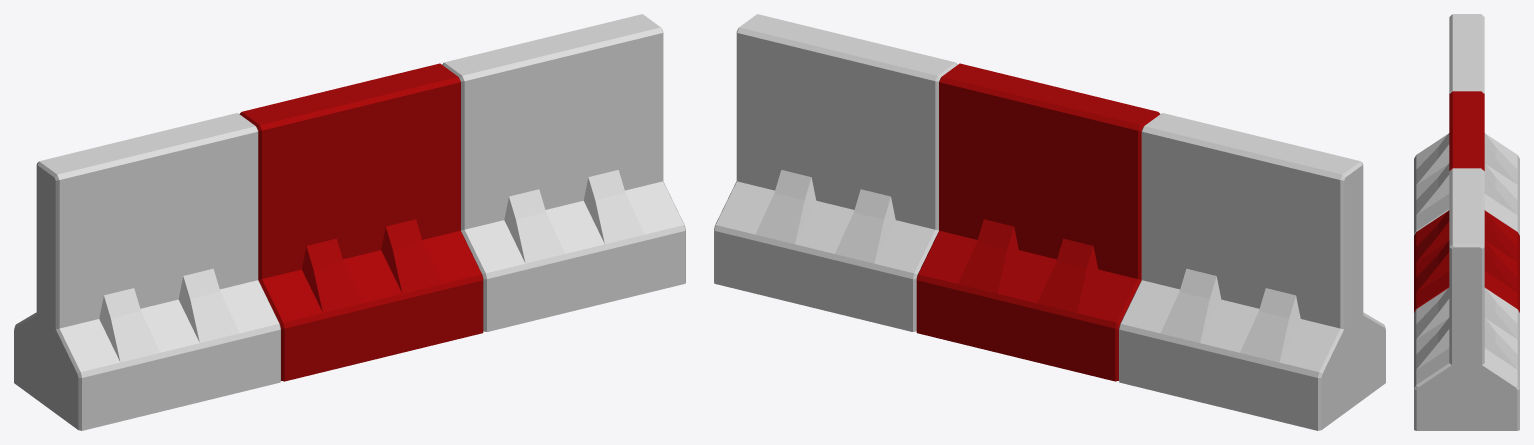
Rendered from barrierRWR.fbx.
3 renders of one model, left to right at view 1: azimuth 30°, elevation 25°; view 2: azimuth 150°, elevation 25°; view 3: azimuth 270°, elevation 25°, orthographic. The views are drawn at different scales.
Parts seen in each view (by area): view 1: Cube.003; view 2: Cube.003; view 3: Cube.003.
Part boxes in pixels (x1,y1,x2,y2): Cube.003: (14, 14, 685, 430); Cube.003: (714, 14, 1385, 430); Cube.003: (1414, 14, 1519, 430).
Bounding box in the file's own units: 3.11 × 1.16 × 0.6.
